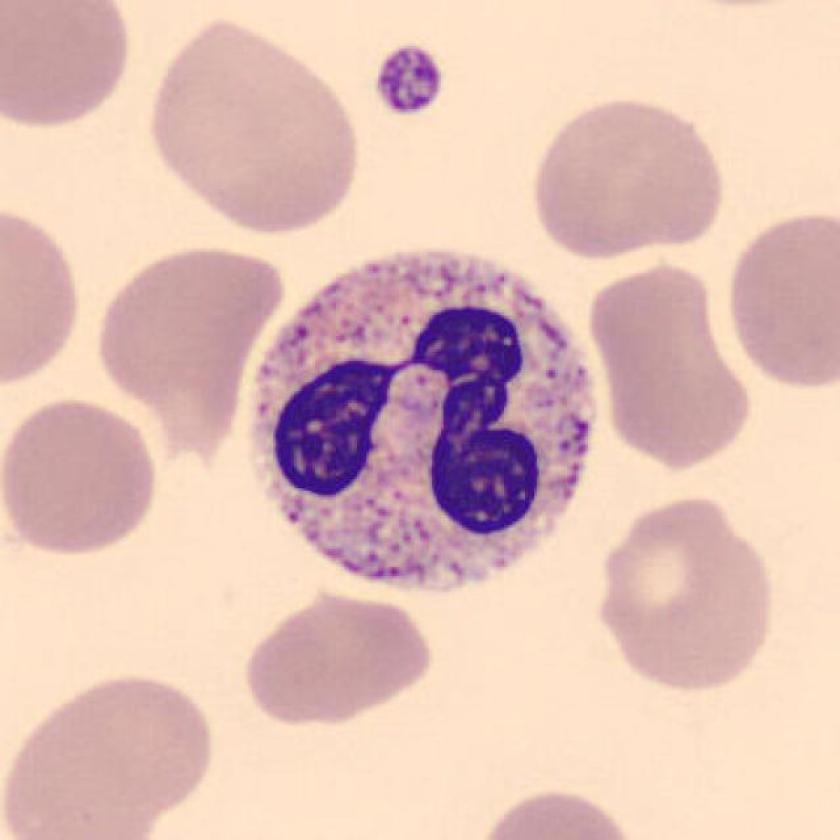neutrophil: (252, 252, 593, 590)
